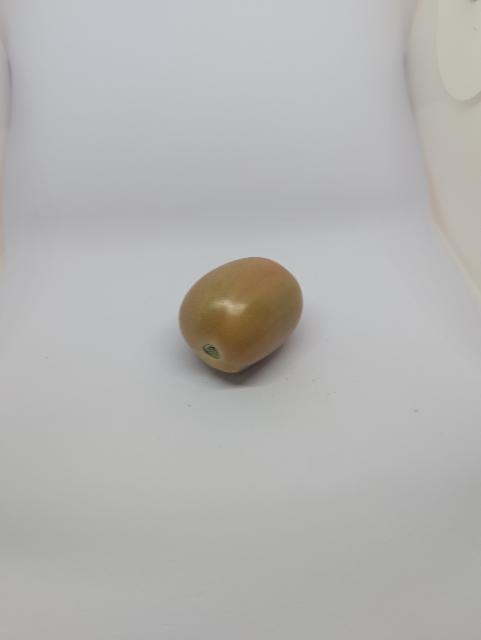turning: (176, 250, 319, 392)
